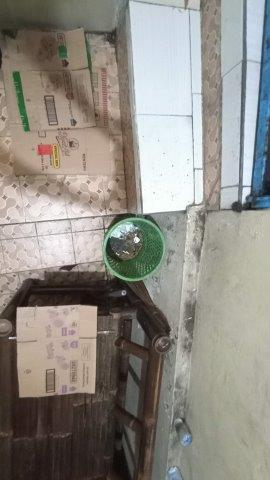kardus: (3, 29, 107, 174), (17, 308, 96, 396)
